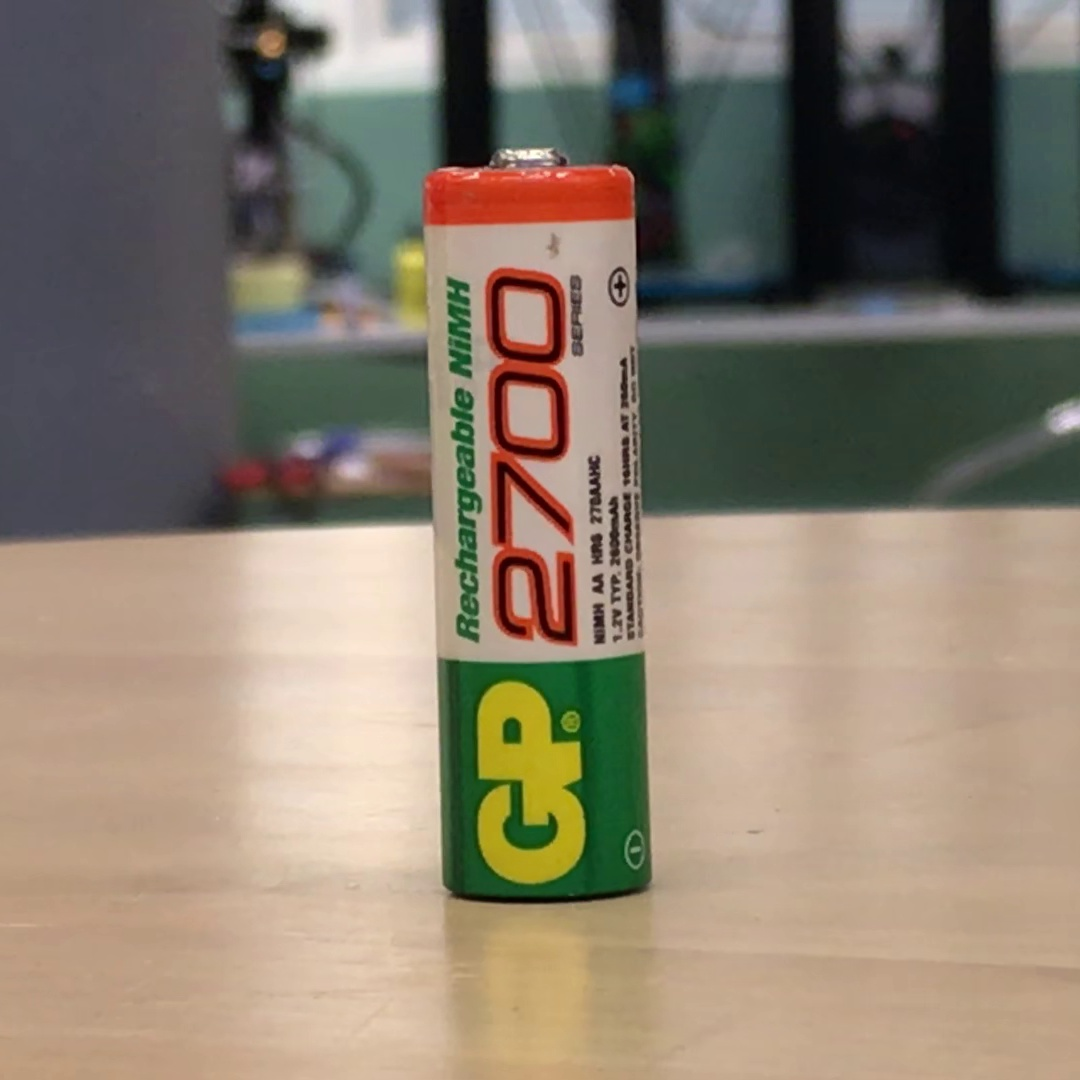keyword: (437, 267, 481, 389)
